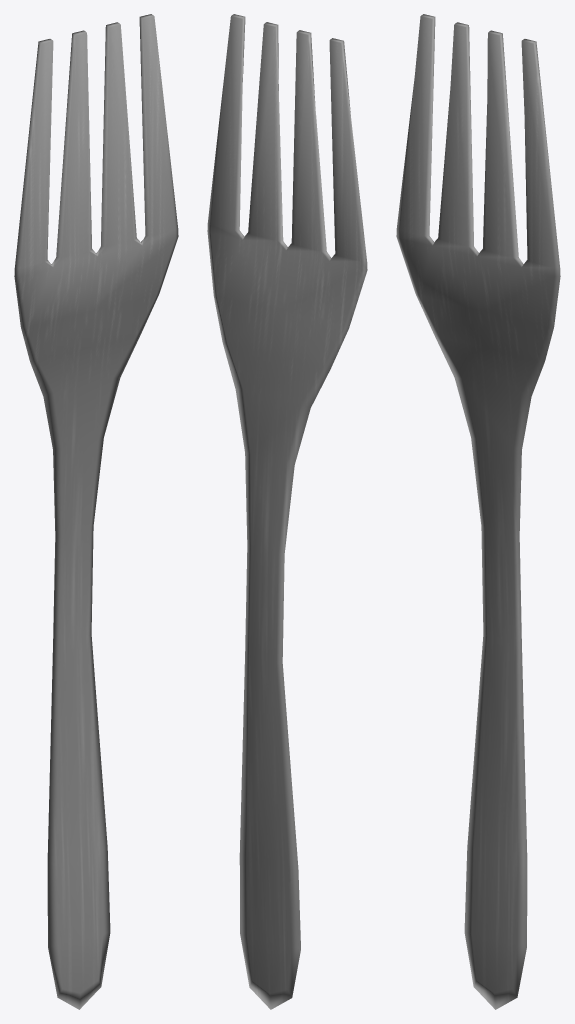
File: fork.glb
3 views of the same model, side by side, from view 1: azimuth 30°, elevation 25°; view 2: azimuth 150°, elevation 25°; view 3: azimuth 330°, elevation 25° (orthographic). The views are drawn at different scales.
Parts seen in each view (by area): view 1: fork; view 2: fork; view 3: fork.
Part boxes in pixels (bbox=[...]): fork: bbox=[14, 14, 178, 1009]; fork: bbox=[207, 14, 367, 1009]; fork: bbox=[396, 14, 560, 1009].
Size of the model in its own units: 0.0339 by 0.1962 by 0.00967.
Materials: 1 (1 with a texture image).
